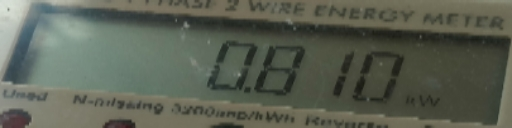0: (350, 44, 406, 107), (207, 29, 250, 93)
1: (331, 44, 353, 102)
8: (259, 42, 306, 102)
d: (240, 81, 257, 92)
